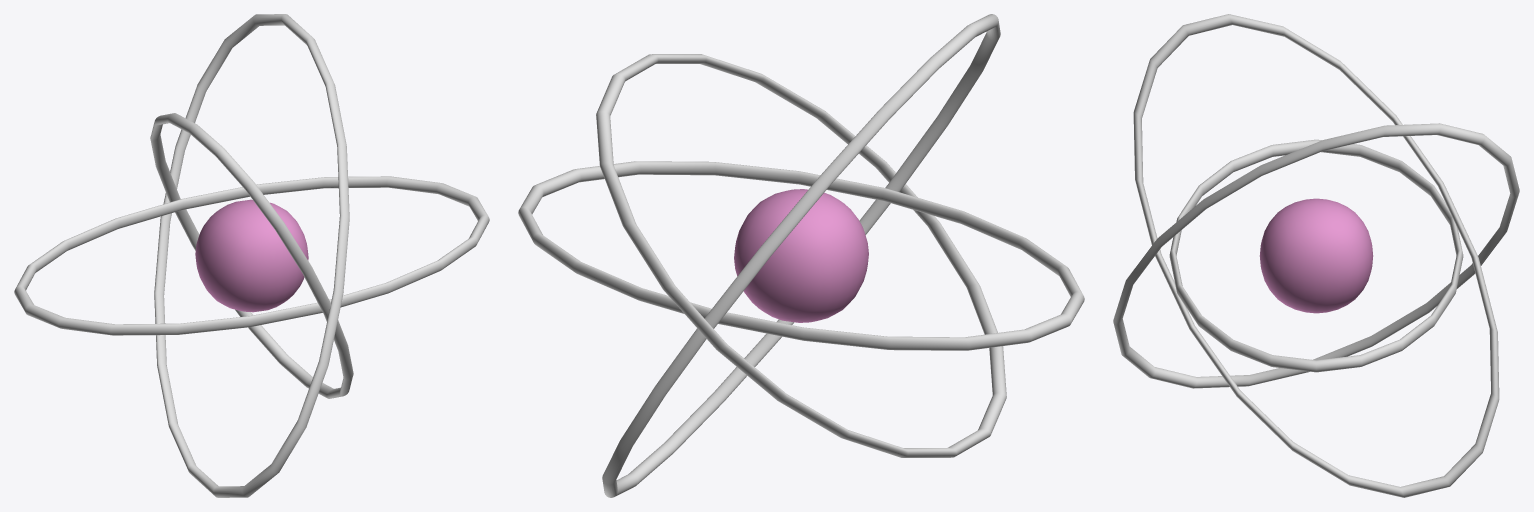
The model's file is Antimatter_power.fbx.
The picture shows the model from 3 angles, left to right: view 1: azimuth 30°, elevation 25°; view 2: azimuth 150°, elevation 25°; view 3: azimuth 270°, elevation 25°; orthographic projection. The views are drawn at different scales.
Visible parts, largest first — view 1: pTorus1, pTorus2, pCube2, pTorus3; view 2: pTorus1, pTorus3, pTorus2, pCube2; view 3: pTorus3, pCube2, pTorus2, pTorus1.
Boxes of the visible parts, box(x1,y1,x2,y2) form: pTorus1: box(14, 176, 489, 335); pTorus2: box(154, 14, 349, 497); pCube2: box(195, 199, 308, 312); pTorus3: box(150, 113, 353, 398); pTorus1: box(518, 161, 1084, 350); pTorus3: box(602, 14, 1000, 497); pTorus2: box(596, 54, 1006, 457); pCube2: box(734, 189, 868, 322); pTorus3: box(1133, 14, 1499, 497); pCube2: box(1259, 198, 1373, 313); pTorus2: box(1113, 123, 1519, 388); pTorus1: box(1169, 139, 1463, 372).
Bounding box in the file's own units: 5.28 × 4.17 × 4.01.
